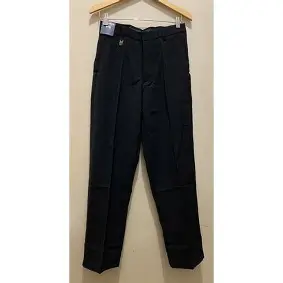celana_benar: (78, 22, 206, 272)
